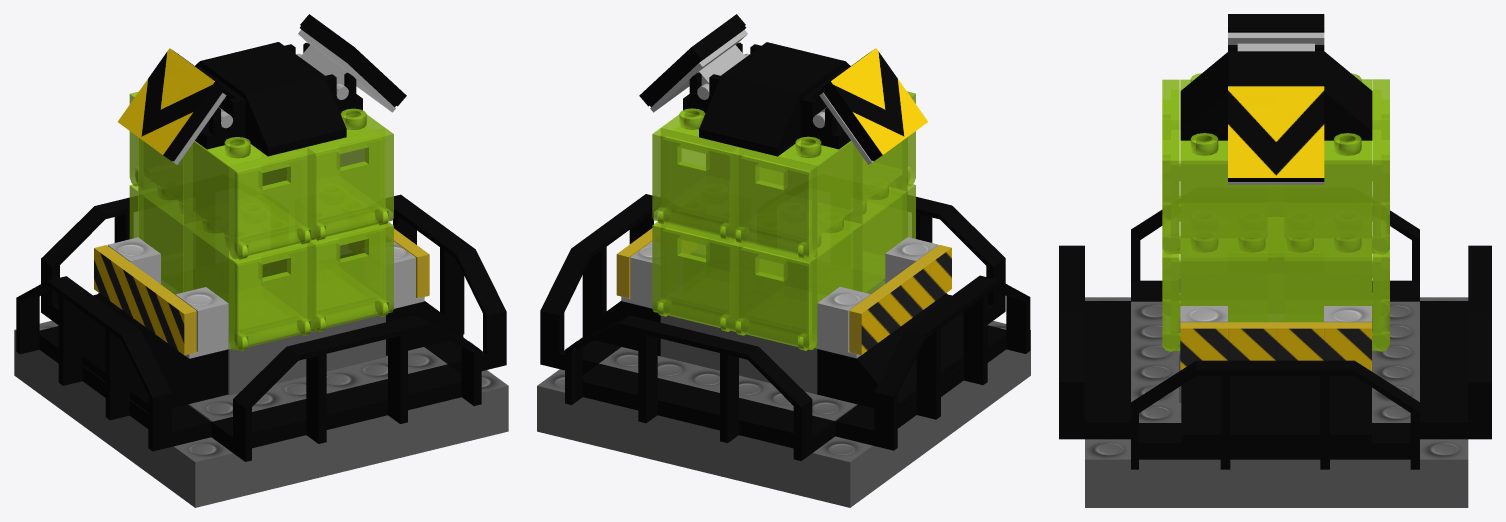
File: PowerStation2.fbx
The picture shows the model from 3 angles, left to right: view 1: azimuth 30°, elevation 25°; view 2: azimuth 150°, elevation 25°; view 3: azimuth 270°, elevation 25°; orthographic projection. The views are drawn at different scales.
Visible parts, largest first — view 1: Plate6x6.012, Plate6x6.019, Plate6x6.004, Plate6x6.005, Plate6x6.006, Plate6x6.008; view 2: Plate6x6.012, Plate6x6.019, Plate6x6.004, Plate6x6.005, Plate6x6.006, Plate6x6.008; view 3: Plate6x6.012, Plate6x6.019, Plate6x6.004, Plate6x6.005, Plate6x6.006, Plate6x6.008.
Boxes of the visible parts, x1,y1,x2,y2 form: Plate6x6.012: [129, 91, 393, 350]; Plate6x6.019: [16, 194, 506, 461]; Plate6x6.004: [14, 315, 508, 507]; Plate6x6.005: [82, 42, 463, 412]; Plate6x6.006: [118, 14, 406, 164]; Plate6x6.008: [94, 228, 429, 358]; Plate6x6.012: [652, 91, 915, 350]; Plate6x6.019: [540, 194, 1030, 460]; Plate6x6.004: [537, 279, 1030, 507]; Plate6x6.005: [582, 42, 963, 411]; Plate6x6.006: [639, 14, 927, 164]; Plate6x6.008: [616, 228, 951, 358]; Plate6x6.012: [1162, 73, 1389, 351]; Plate6x6.019: [1059, 210, 1491, 469]; Plate6x6.004: [1085, 278, 1468, 507]; Plate6x6.005: [1180, 51, 1372, 443]; Plate6x6.006: [1228, 14, 1324, 184]; Plate6x6.008: [1180, 306, 1371, 371].
Size of what is drawn, in the model's own units: 0.4527 by 0.4352 by 0.4527.
